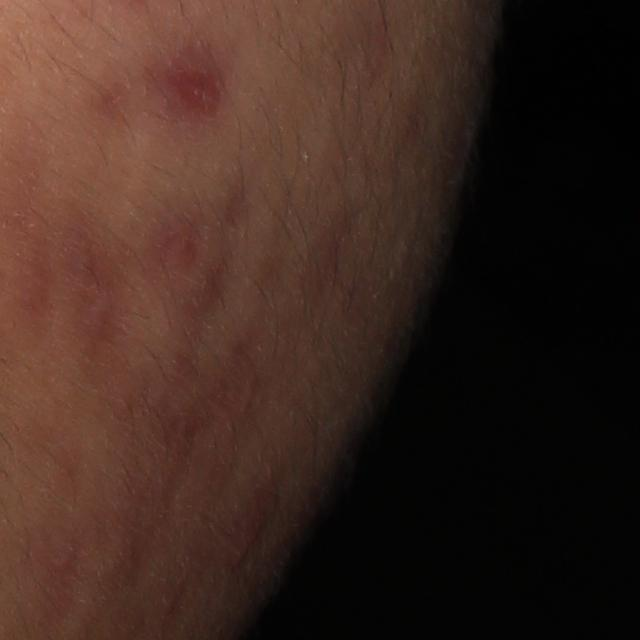atrophic_scar: (186, 191, 247, 360), (72, 208, 137, 343), (18, 226, 68, 333), (95, 79, 143, 124)
